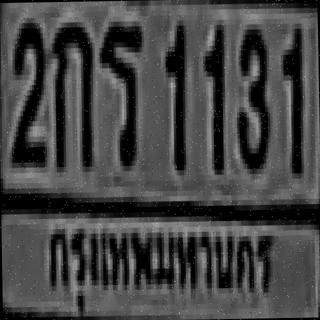A01: (52, 17, 92, 167)
A35: (99, 18, 141, 164)
N01: (162, 18, 186, 168), (280, 23, 302, 168), (202, 19, 223, 170)
N02: (7, 15, 45, 160)
N03: (233, 19, 268, 169)
P04: (41, 205, 279, 315)
